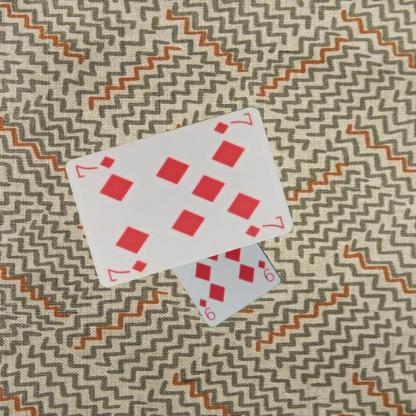7d: (105, 257, 149, 283), (211, 109, 254, 135)
9d: (256, 257, 276, 283)
